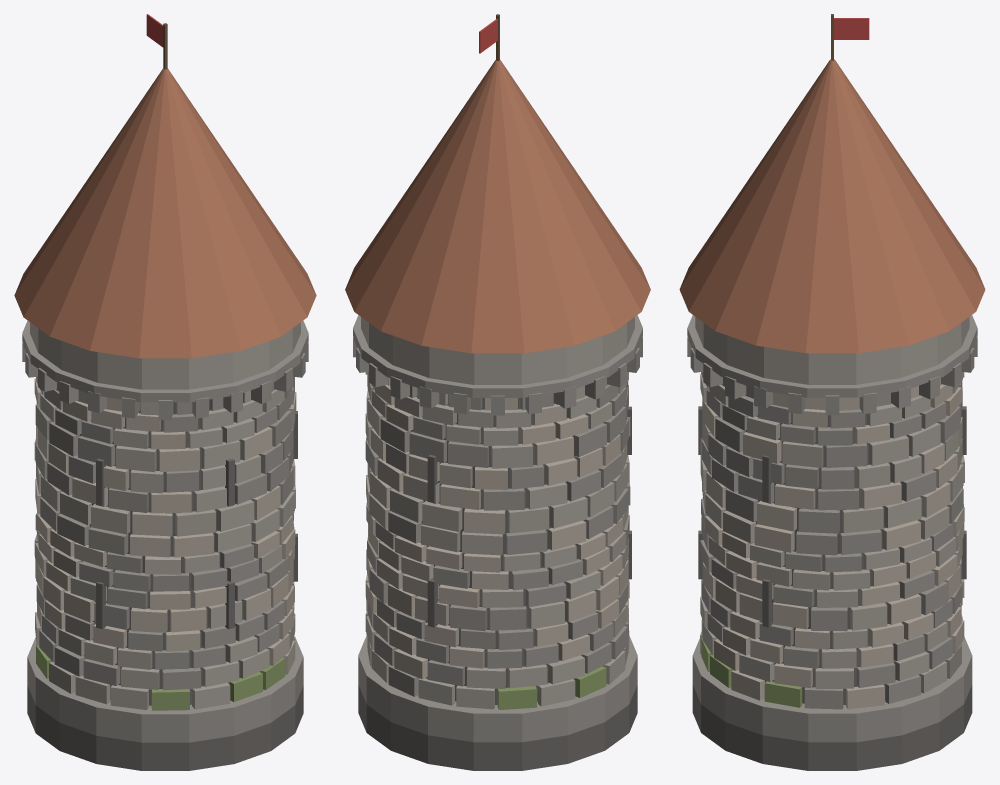
Rendered from SM_Tower_Round_Roofed.fbx.
3 views of the same model, side by side, from view 1: azimuth 30°, elevation 25°; view 2: azimuth 150°, elevation 25°; view 3: azimuth 270°, elevation 25° (orthographic).
Parts seen in each view (by area): view 1: SM_Tower_Round_Roofed; view 2: SM_Tower_Round_Roofed; view 3: SM_Tower_Round_Roofed.
Boxes of the visible parts, x1,y1,x2,y2 form: SM_Tower_Round_Roofed: (14, 14, 316, 770); SM_Tower_Round_Roofed: (345, 14, 650, 770); SM_Tower_Round_Roofed: (679, 14, 985, 770).
Size of the model in its own units: 5.71 by 14.6 by 5.8.
